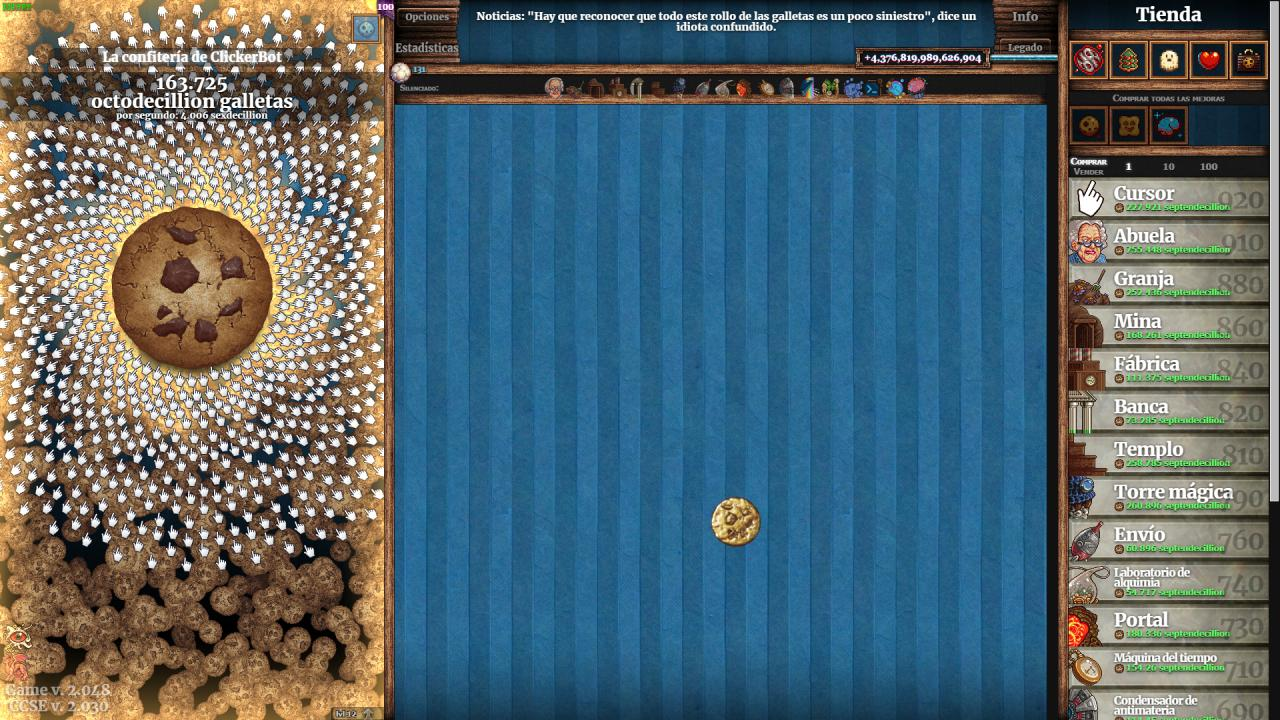GoldenCookie: (709, 494, 765, 549)
